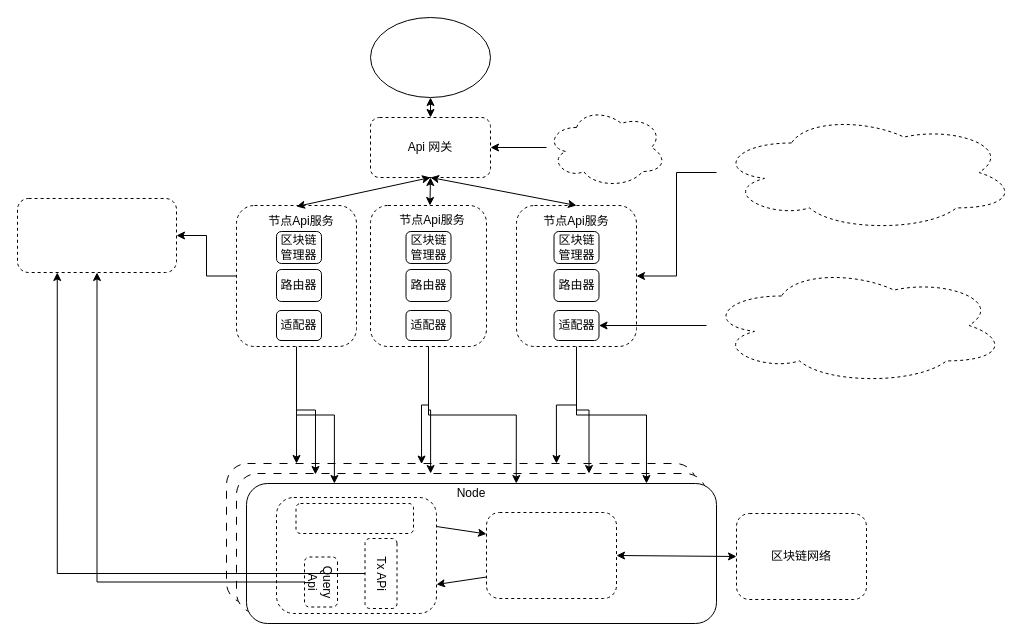
This 1034x641 diagram has some shape labels left out. Here are the shapes that lost their labels. From the top down, the centre of each, then its label:
At point (430, 57): "区块链应用".
At point (606, 147): "权限访问控制 限流控制".
At point (866, 172): "节点服务对外部应用的接口包含： 配置api, 查询api, 构造api".
At point (96, 235): "Api 规范接口".
At point (856, 325): "适配器： 节点接口 适配器库 数据验证 交易处理".
At point (354, 518): "节点api客户端".
At point (551, 555): "区块链节点".
